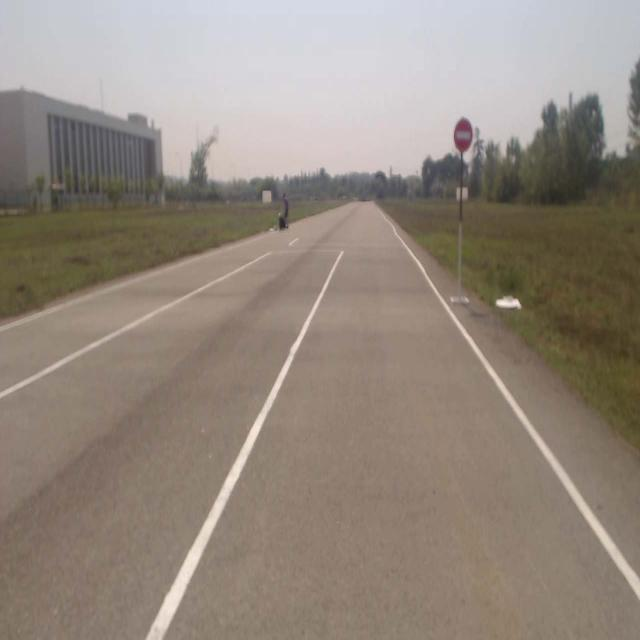girisyok: (454, 120, 472, 151)
